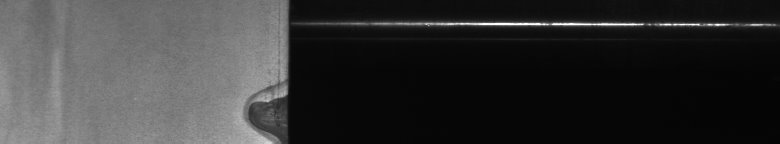hb: (236, 72, 276, 136)
